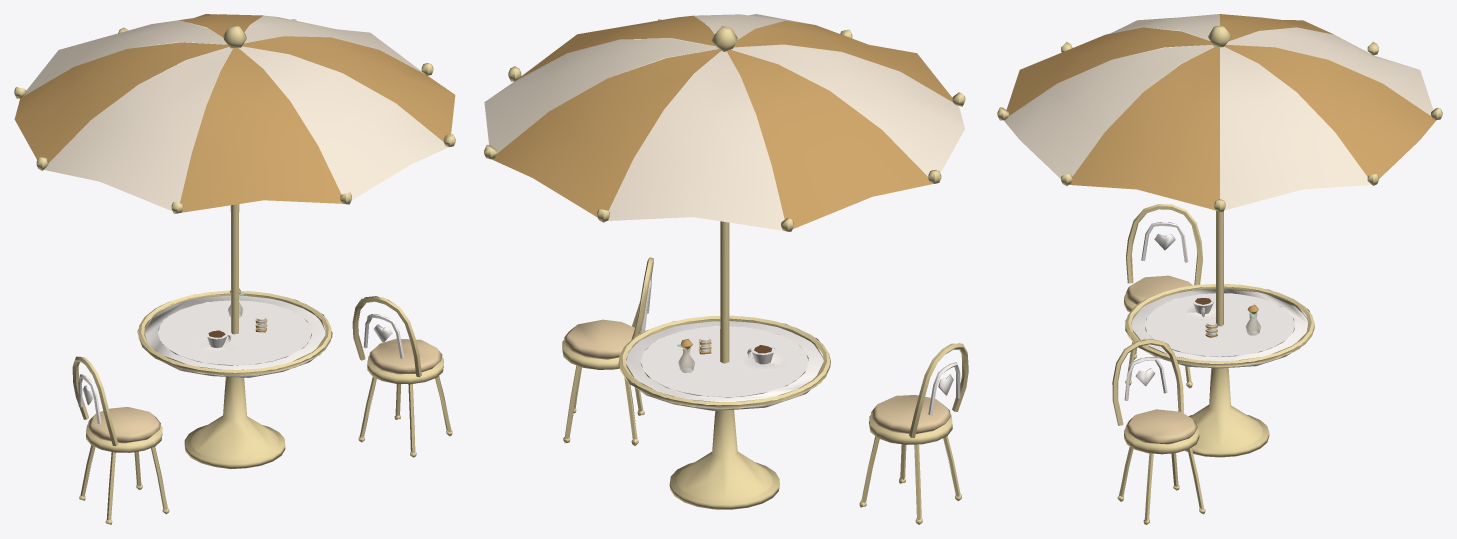
The model's file is lite_cafe_table_set.glb.
3 views of the same model, side by side, from view 1: azimuth 30°, elevation 25°; view 2: azimuth 150°, elevation 25°; view 3: azimuth 270°, elevation 25° (orthographic). The views are drawn at different scales.
Visible parts, largest first — view 1: cafe_table_set; view 2: cafe_table_set; view 3: cafe_table_set.
Boxes of the visible parts, x1,y1,x2,y2 form: cafe_table_set: (14,14,455,524); cafe_table_set: (484,14,968,524); cafe_table_set: (997,14,1442,524).
Size of the model in its own units: 2.68 by 2.74 by 2.67.
